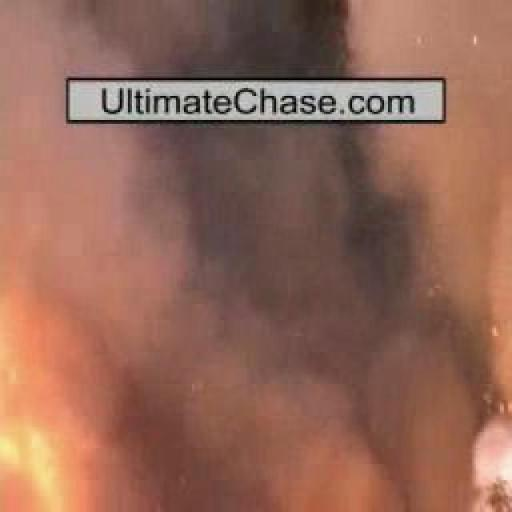smoke: (0, 306, 88, 510), (473, 307, 512, 426)
